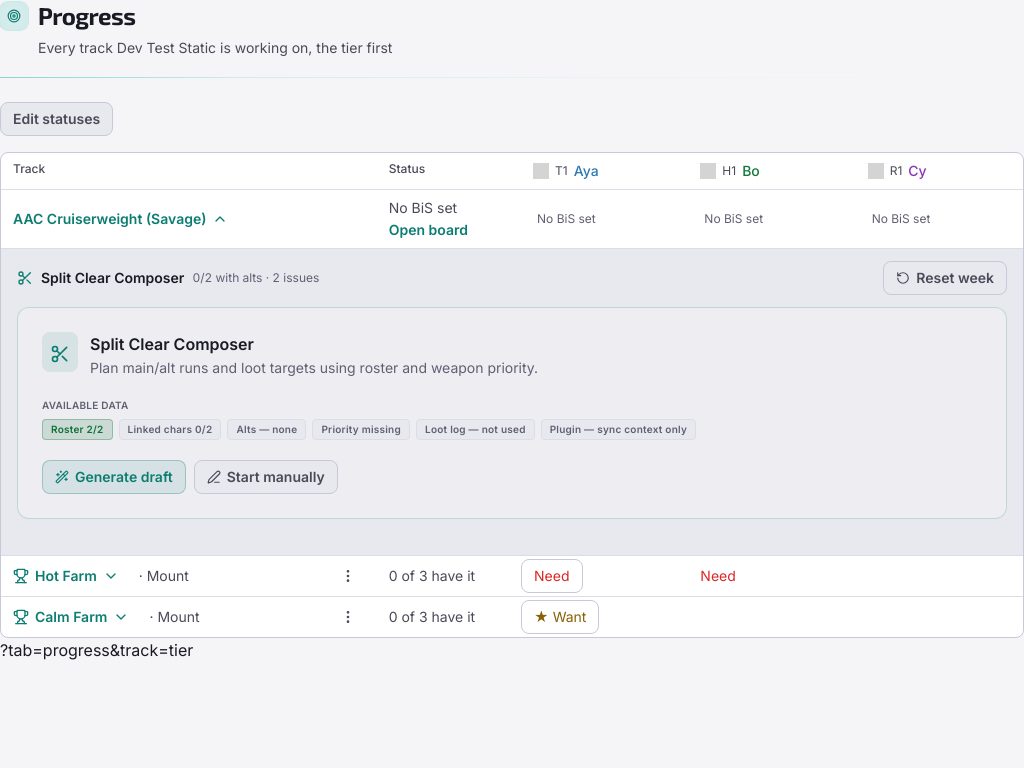
Test case: ProgressPage tier row with split clears on › hands the planner the configured, non-substitute cards only (review m-a)
The image size is (1024, 768).
Expected: the text "Roster 2/2" is shown, [42,419,113,440]
Click the button with aria-label "Generate draft plan". click: point(114, 477)
box: [42,460,186,494]
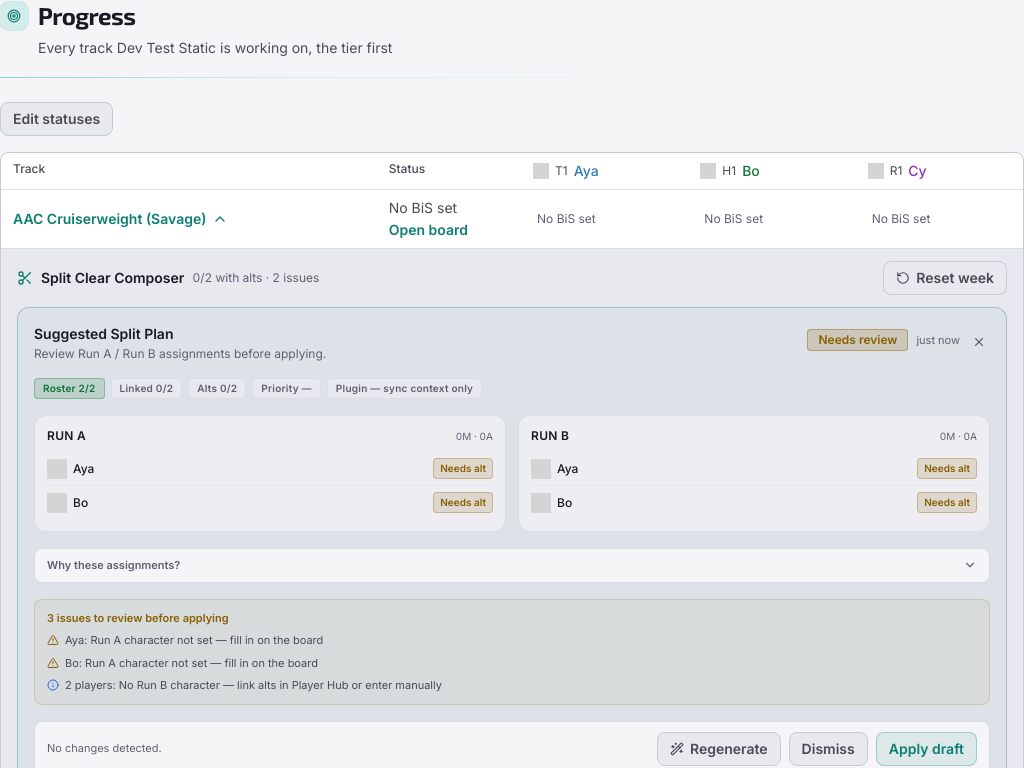
Now the heading "Suggested Split Plan" is shown, box [34,325,174,342]
Now the list item "Aya: Run A character not set — fill in on the board" is shown, box [47,633,323,647]
